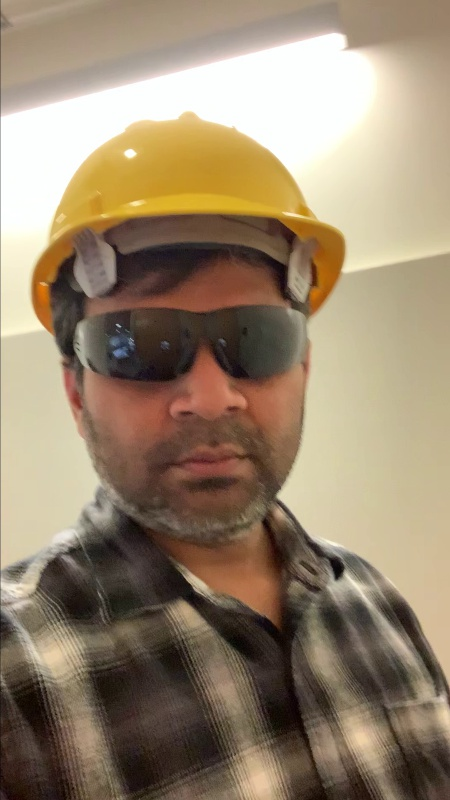glasses: (70, 311, 310, 377)
helmet: (51, 111, 322, 226)
